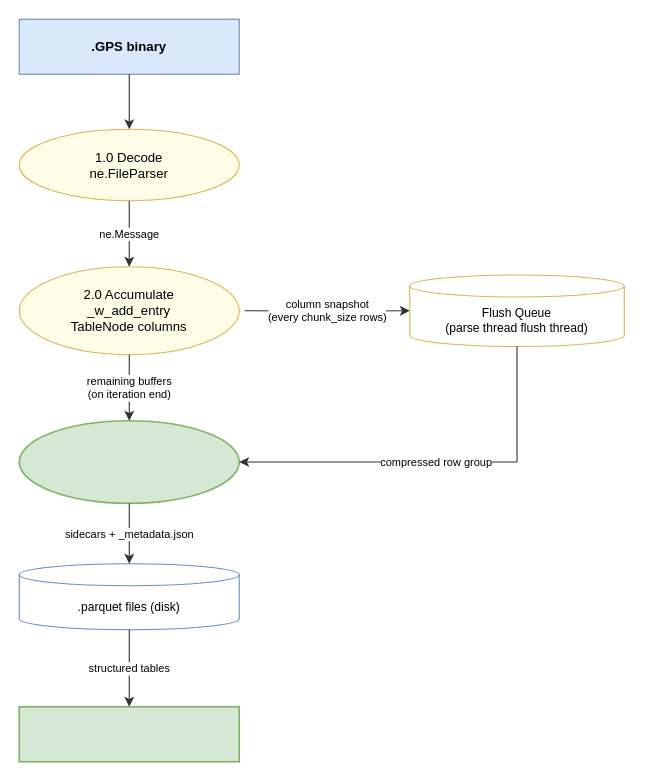
Some shapes in this 645 by 782 pixel diagram are drawn without their labels. Here are the shapes that lost their labels. From the top down, the centre of each, then its label:
the point at 129,461: 3.0 Finalize _finalize() flush + write sidecars
the point at 129,733: Parquet Database
